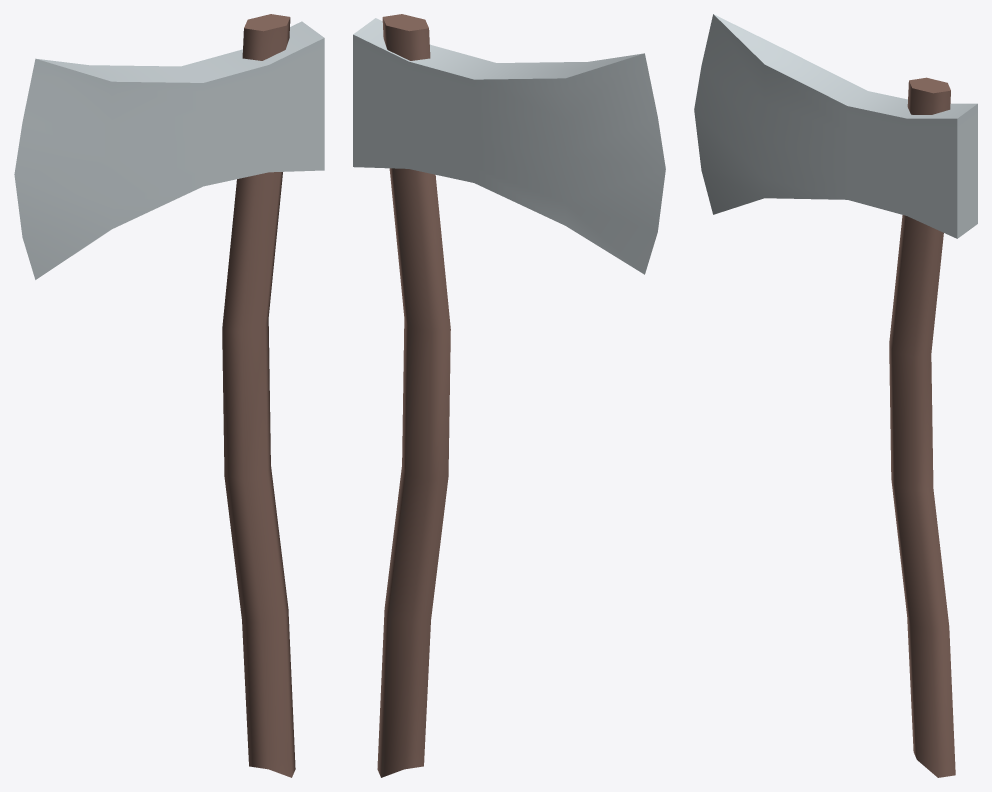
Rendered from Axe.FBX.
The picture shows the model from 3 angles, left to right: view 1: azimuth 30°, elevation 25°; view 2: azimuth 150°, elevation 25°; view 3: azimuth 330°, elevation 25°; orthographic projection. The views are drawn at different scales.
Visible parts, largest first — view 1: Axe; view 2: Axe; view 3: Axe.
Part boxes in pixels (x1,y1,x2,y2): Axe: (14,14,324,777); Axe: (353,14,665,777); Axe: (694,14,977,777).
Size of the model in its own units: 13.65 by 33.78 by 1.78.
